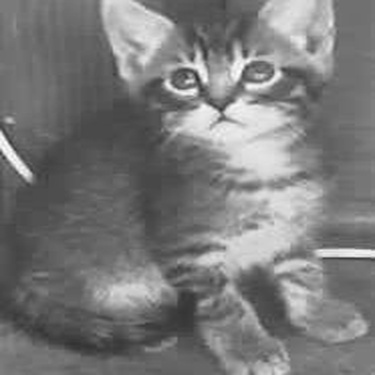cat: (9, 3, 372, 371)
